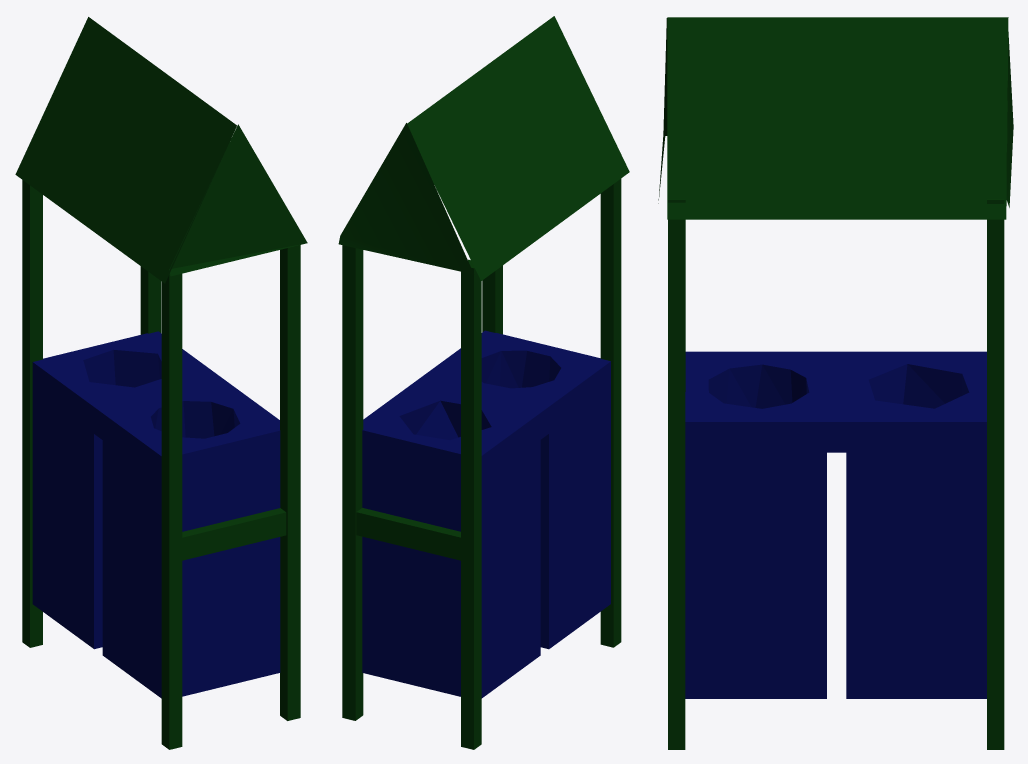
Rendered from trashcan.fbx.
The picture shows the model from 3 angles, left to right: view 1: azimuth 30°, elevation 25°; view 2: azimuth 150°, elevation 25°; view 3: azimuth 270°, elevation 25°; orthographic projection. The views are drawn at different scales.
Parts seen in each view (by area): view 1: Cube, Plane.003, Cube.001, Cube.004, Cube.003, Cube.005, Cube.007, Cube.006; view 2: Cube.001, Plane.003, Cube, Cube.005, Cube.006, Cube.004, Cube.008, Cube.003; view 3: Plane.003, Cube, Cube.001, Cube.006, Cube.003.
Boxes of the visible parts, x1,y1,x2,y2 form: Cube: [94, 376, 280, 698]; Plane.003: [15, 17, 307, 283]; Cube.001: [32, 331, 219, 649]; Cube.004: [161, 273, 182, 749]; Cube.003: [280, 245, 300, 720]; Cube.005: [22, 180, 42, 647]; Cube.007: [182, 508, 286, 560]; Cube.006: [140, 266, 161, 334]; Cube.001: [362, 382, 540, 698]; Plane.003: [338, 16, 629, 280]; Cube: [415, 330, 610, 649]; Cube.005: [461, 259, 481, 749]; Cube.006: [342, 245, 363, 720]; Cube.004: [600, 178, 621, 647]; Cube.008: [356, 508, 460, 560]; Cube.003: [482, 265, 502, 334]; Plane.003: [658, 17, 1013, 219]; Cube: [685, 351, 846, 698]; Cube.001: [846, 351, 986, 698]; Cube.006: [987, 199, 1004, 749]; Cube.003: [668, 199, 685, 749].
Size of the model in its own units: 229 by 928 by 427.
